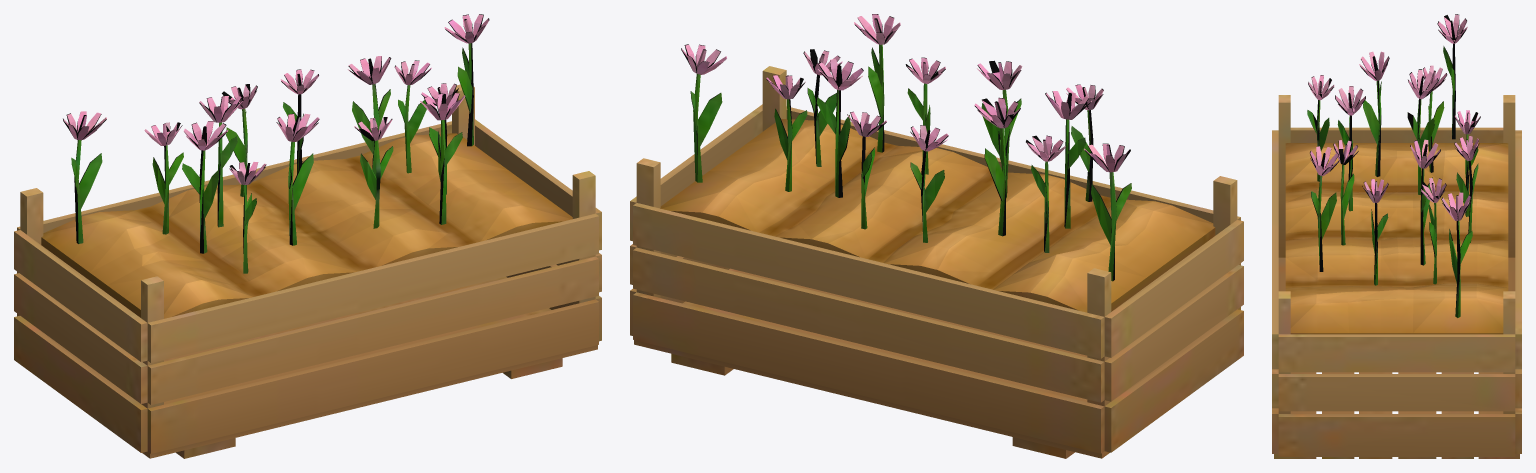
The model's file is flowerbed_crate_low.glb.
3 renders of one model, left to right at view 1: azimuth 30°, elevation 25°; view 2: azimuth 150°, elevation 25°; view 3: azimuth 270°, elevation 25°, orthographic. The views are drawn at different scales.
Visible parts, largest first — view 1: flowerbed_crate_low; view 2: flowerbed_crate_low; view 3: flowerbed_crate_low.
Boxes of the visible parts, bbox=[...] form: flowerbed_crate_low: bbox=[14, 14, 601, 458]; flowerbed_crate_low: bbox=[630, 14, 1243, 458]; flowerbed_crate_low: bbox=[1272, 14, 1521, 458].
Size of the model in its own units: 1.21 by 0.6915 by 0.61.
1 material, 1 textured.
